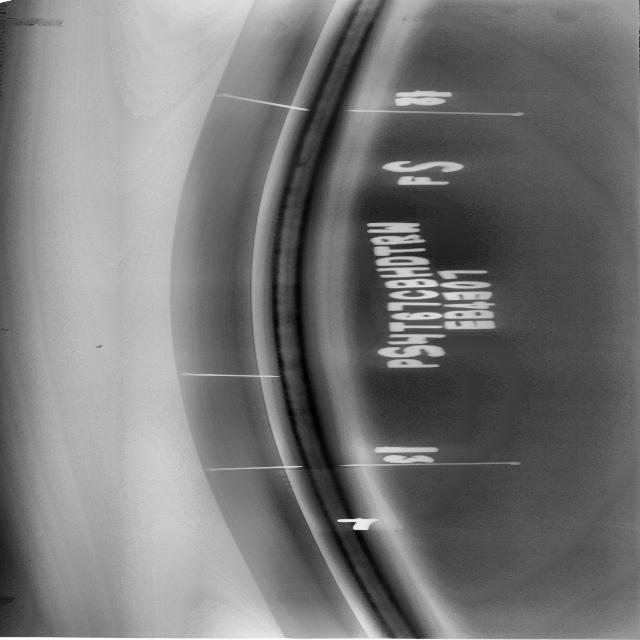porosity: (309, 153, 314, 157), (336, 499, 346, 501)
